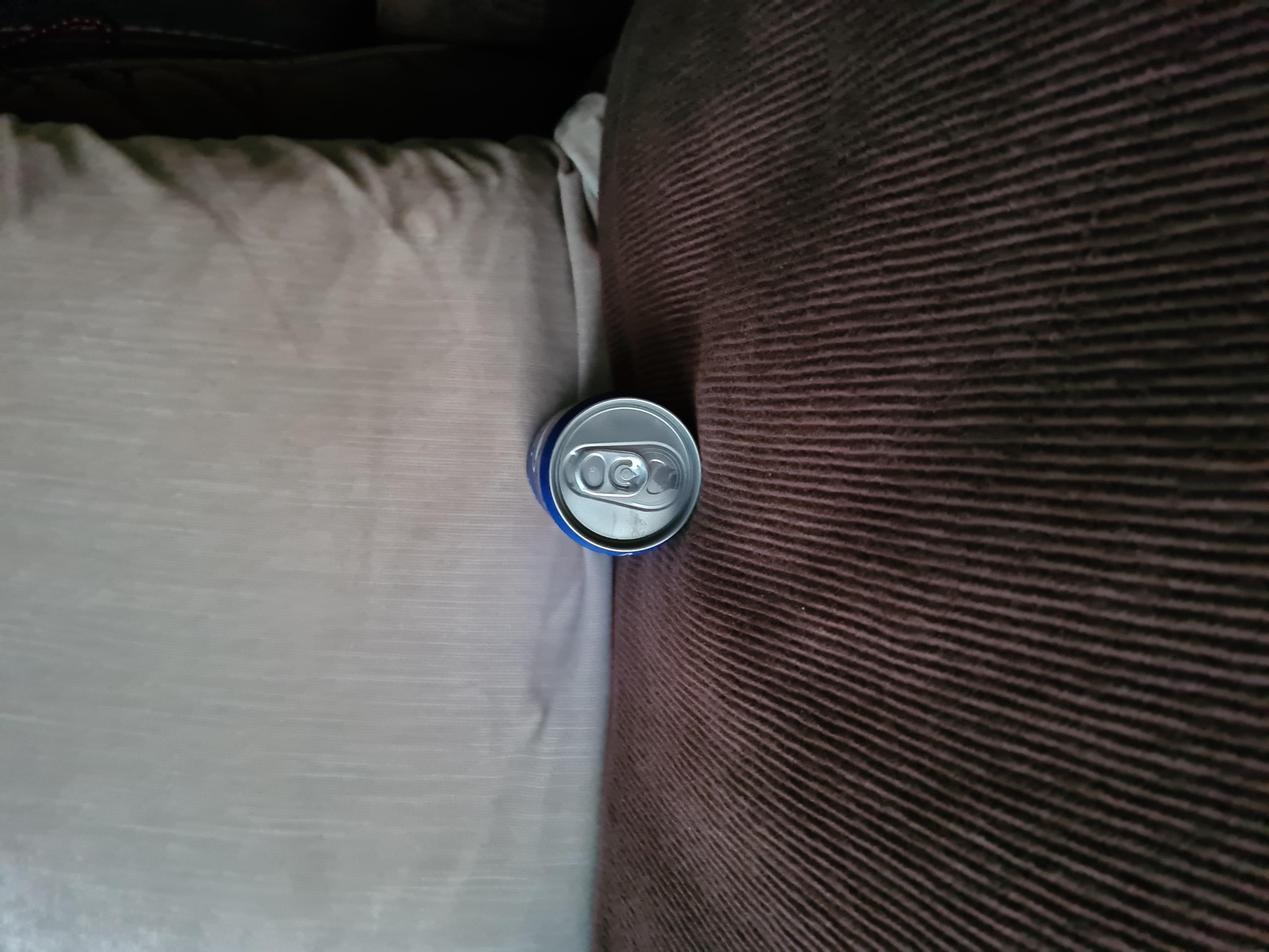debris: (524, 391, 708, 565)
